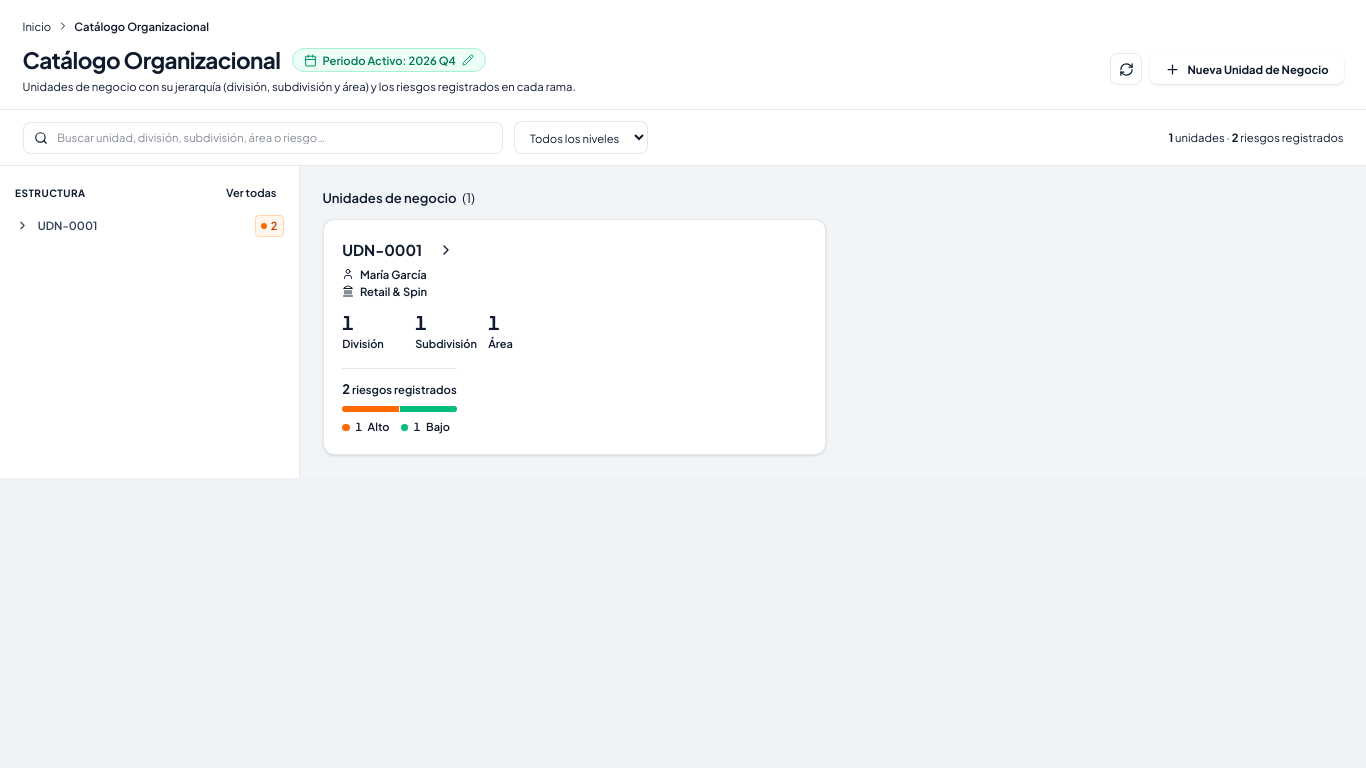
Test: Catálogo de estructura organizacional (HierarchyView) › CP-FE-04 (AC1): agrega una subdivisión con país dentro de una división y refresca la unidad
The width and height of the screenshot is (1366, 768).
Click the button with test id "tarjeta-unidad-10": point(382, 249) [322,219,826,455]
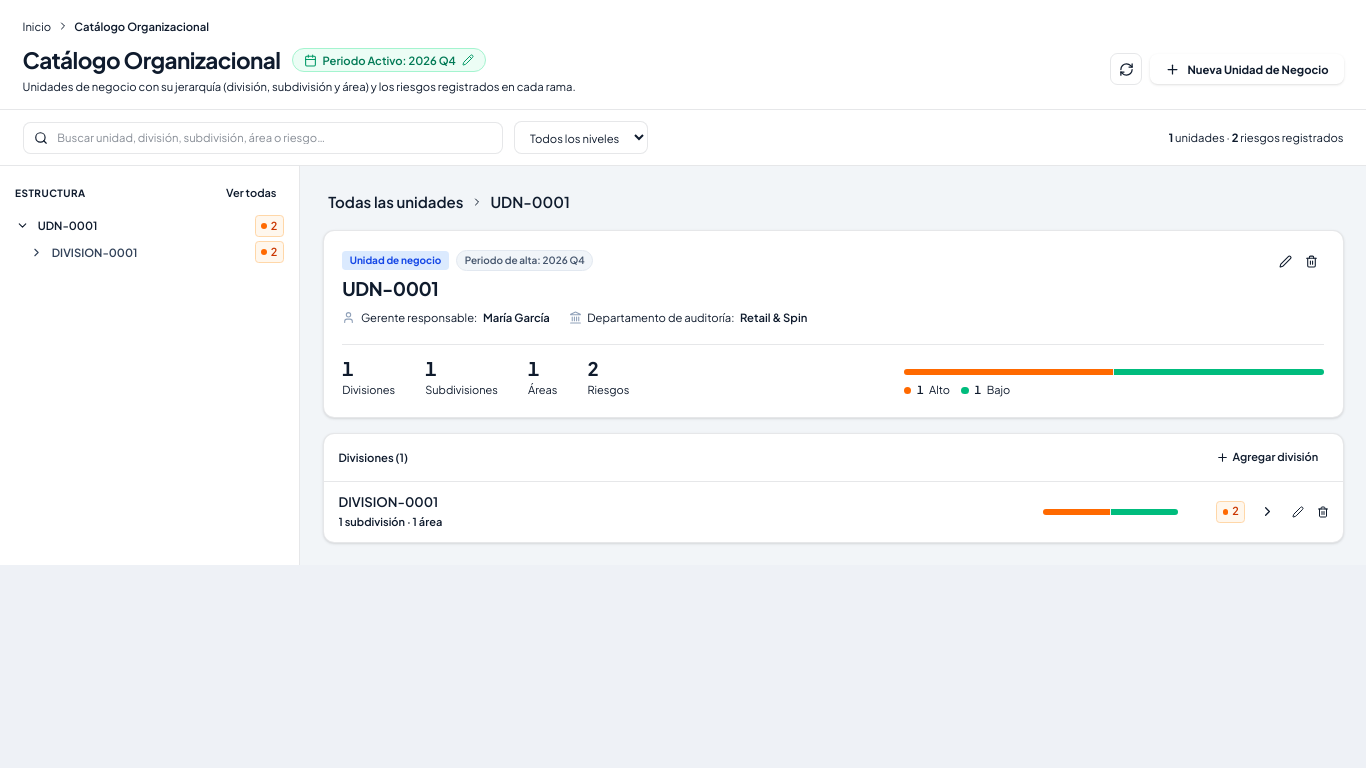
Click the button with aria-label "Abrir": point(388, 502) [331,482,1275,542]
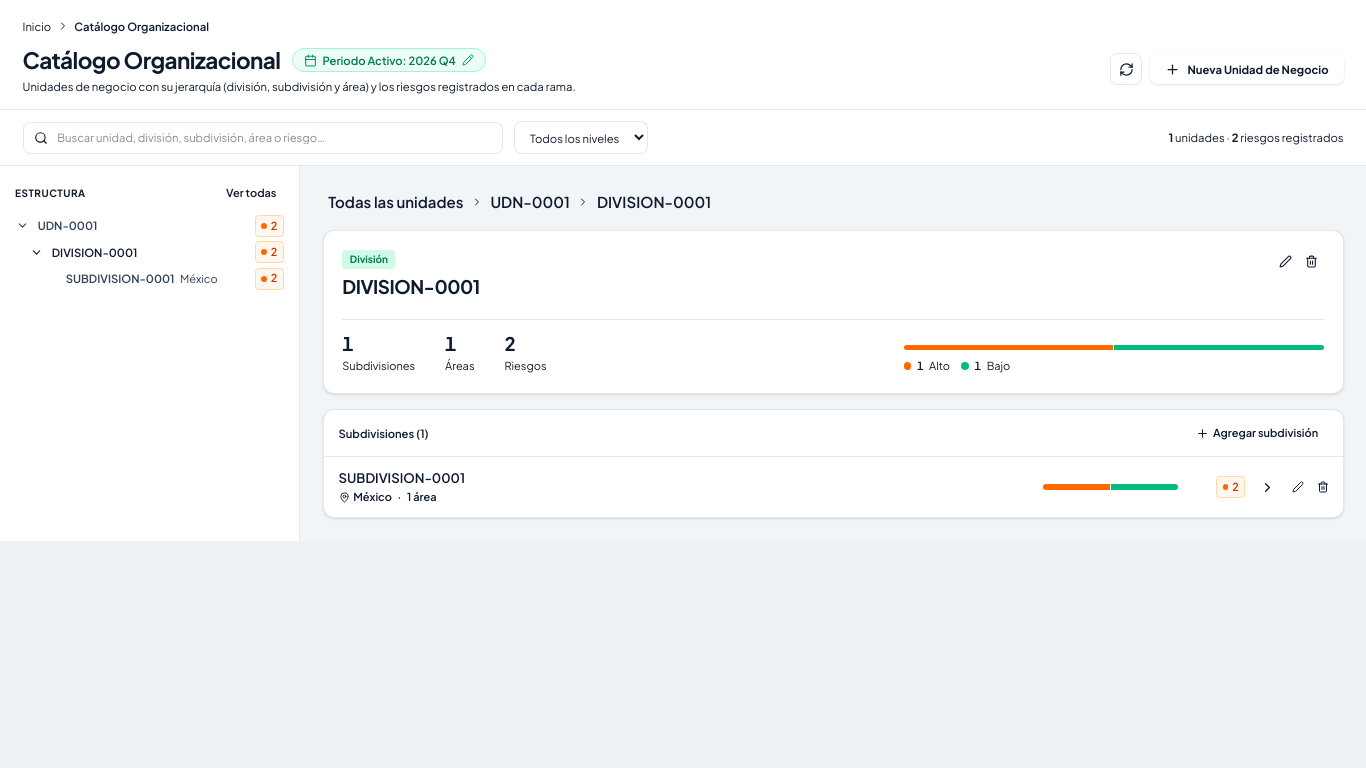
Click the button with test id "btn-agregar-hijo": point(1257, 433) [1187,419,1328,447]
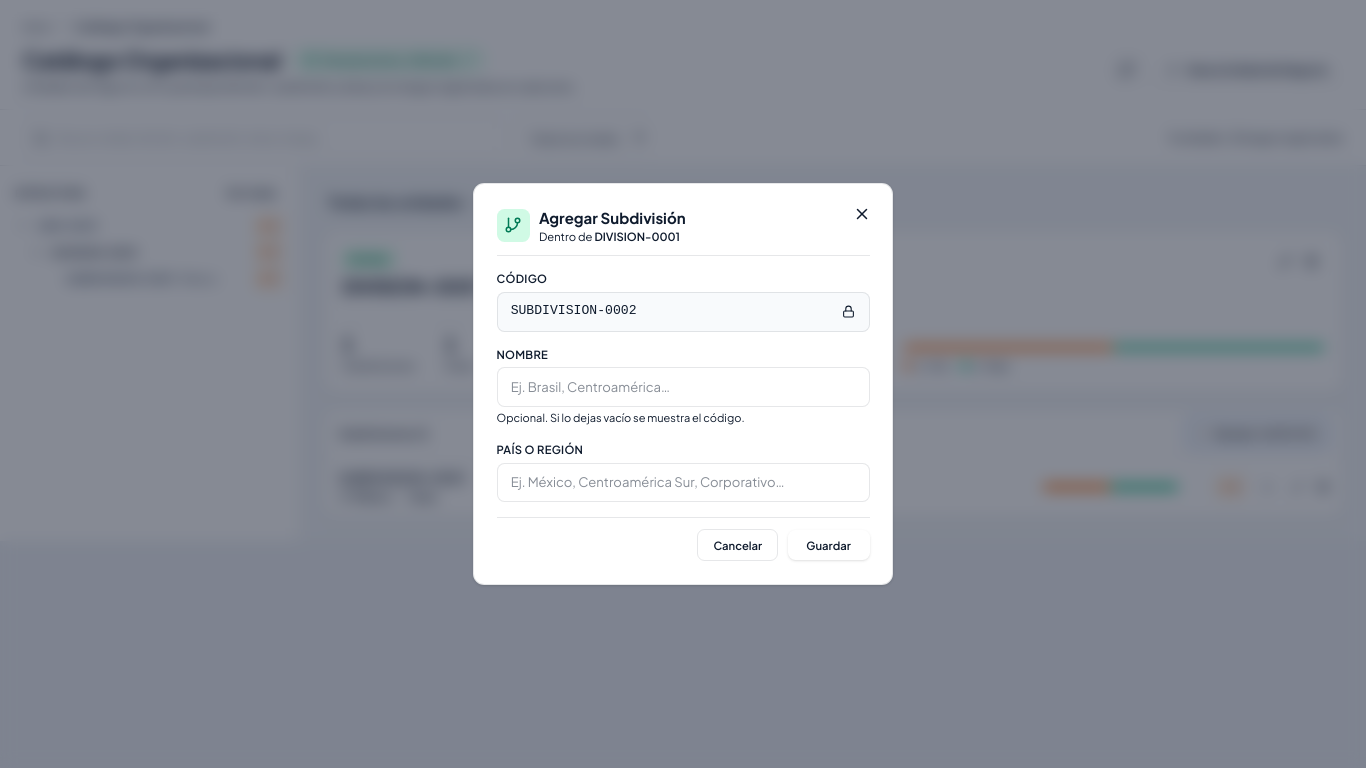
expect the heading "Agregar Subdivisión" is shown: met, box [539,207,686,229]
expect the element with test id "campo-codigo" reads "SUBDIVISION-0002": met, box [511,303,636,318]
In the dropdown labelled "País o región": point(683, 482) [496,463,870,502], type "KFS RTR"
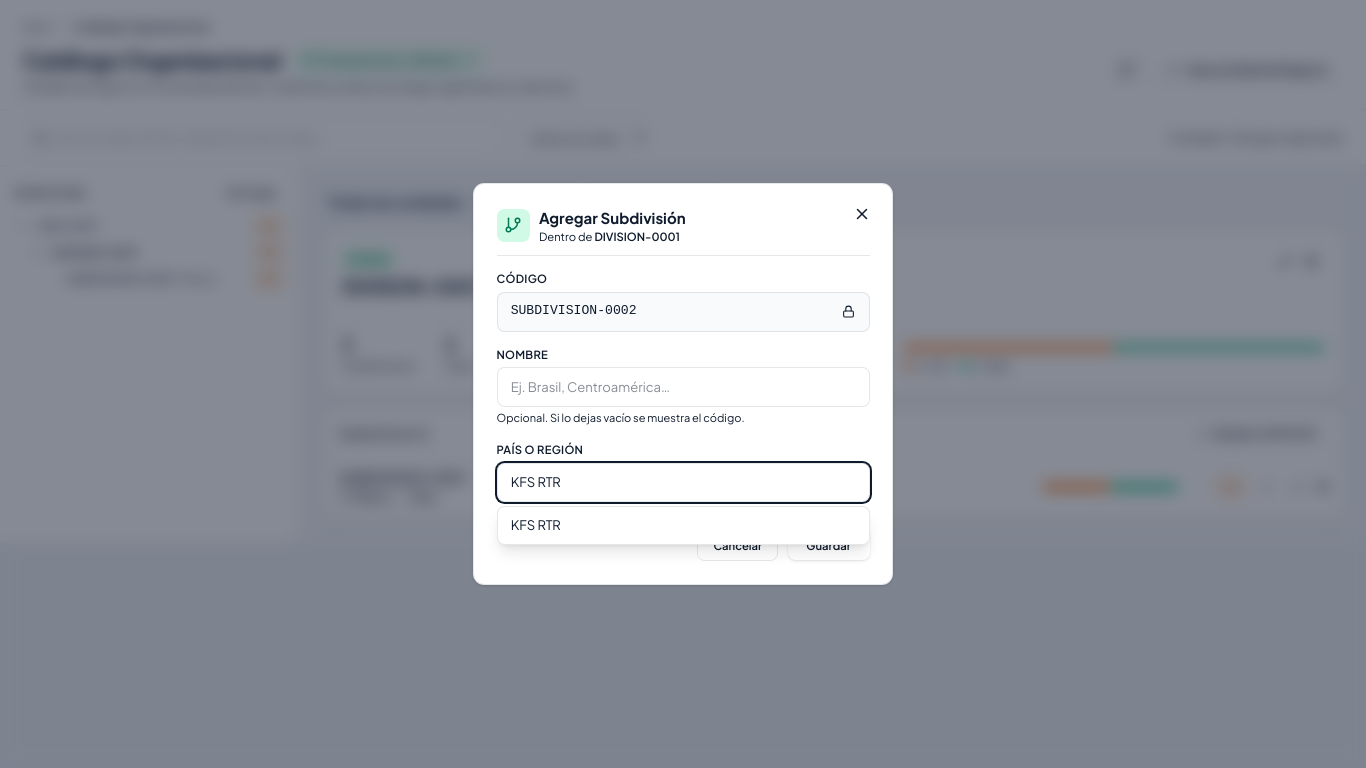
Click the button "Guardar": point(829, 545) [788,530,870,560]
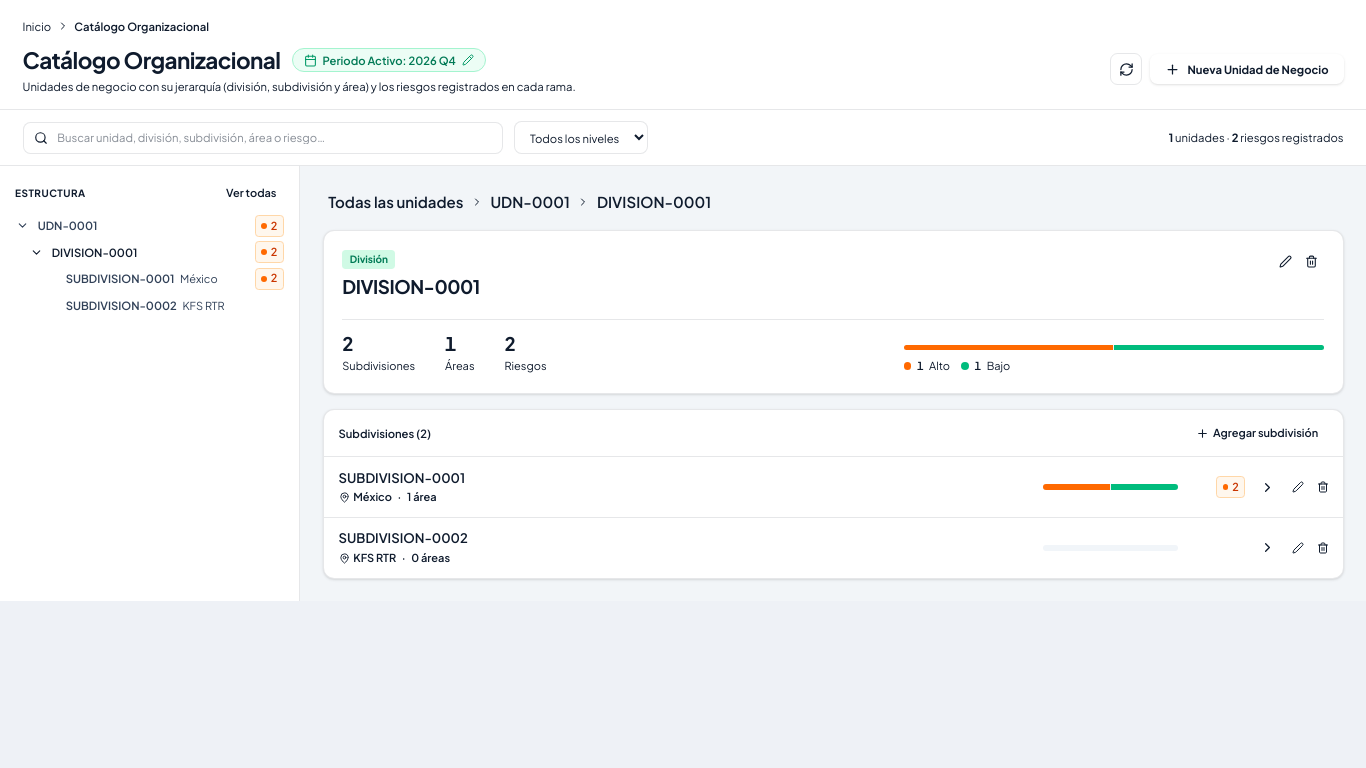
expect the list item with test id "fila-subdivision-201" shows "KFS RTR": met, box [331,518,1275,578]
expect the element with test id "arbol-subdivision-201" is shown: met, box [66,292,284,319]
